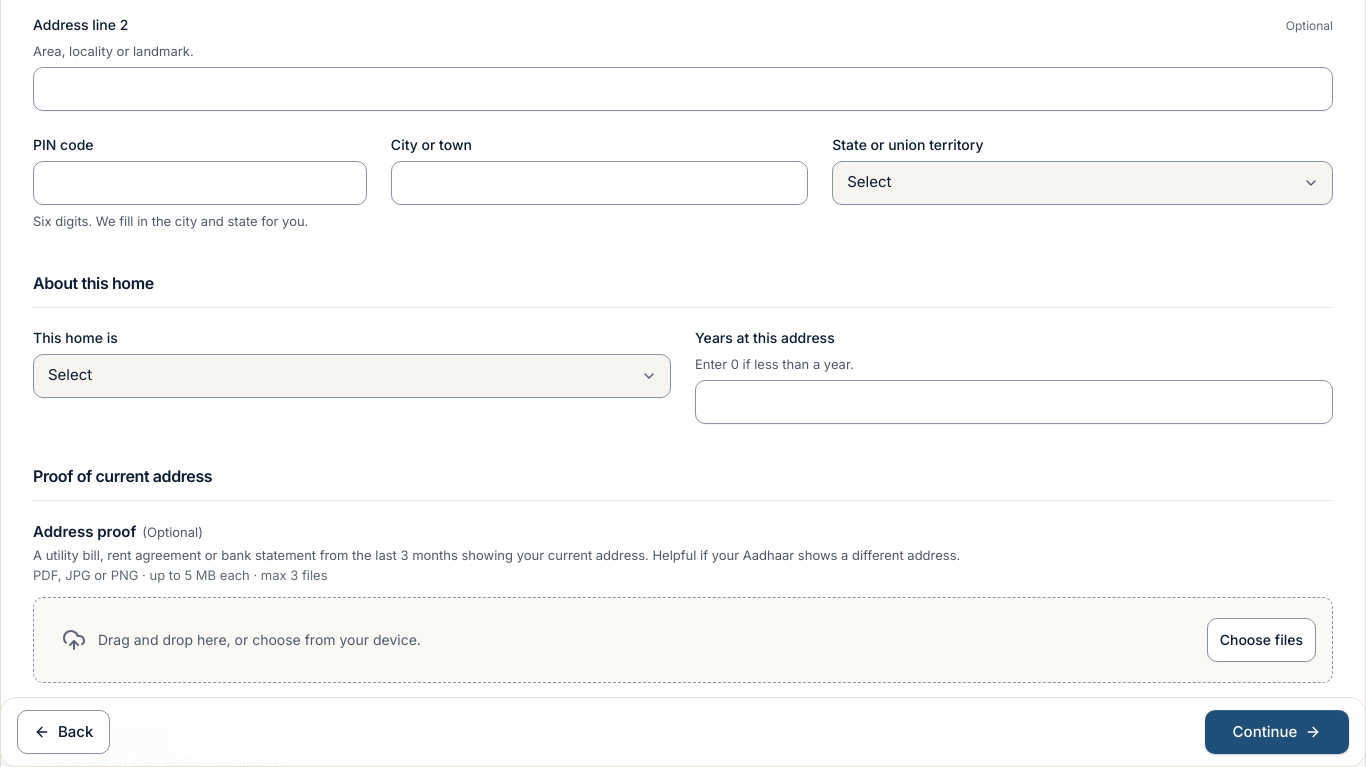
Test: Step 4 — address › asks for rent when renting and a previous address after under a year
This screenshot has width=1366, height=767.
(page scrolled)
Expected: the button "Continue" is enabled, x1=1205 y1=710 x2=1349 y2=754
Expected: the field labelled "Monthly rent" is not shown
Select "Rented" in the dropdown labelled "This home is" at (352, 376), box x1=33 y1=354 x2=671 y2=398
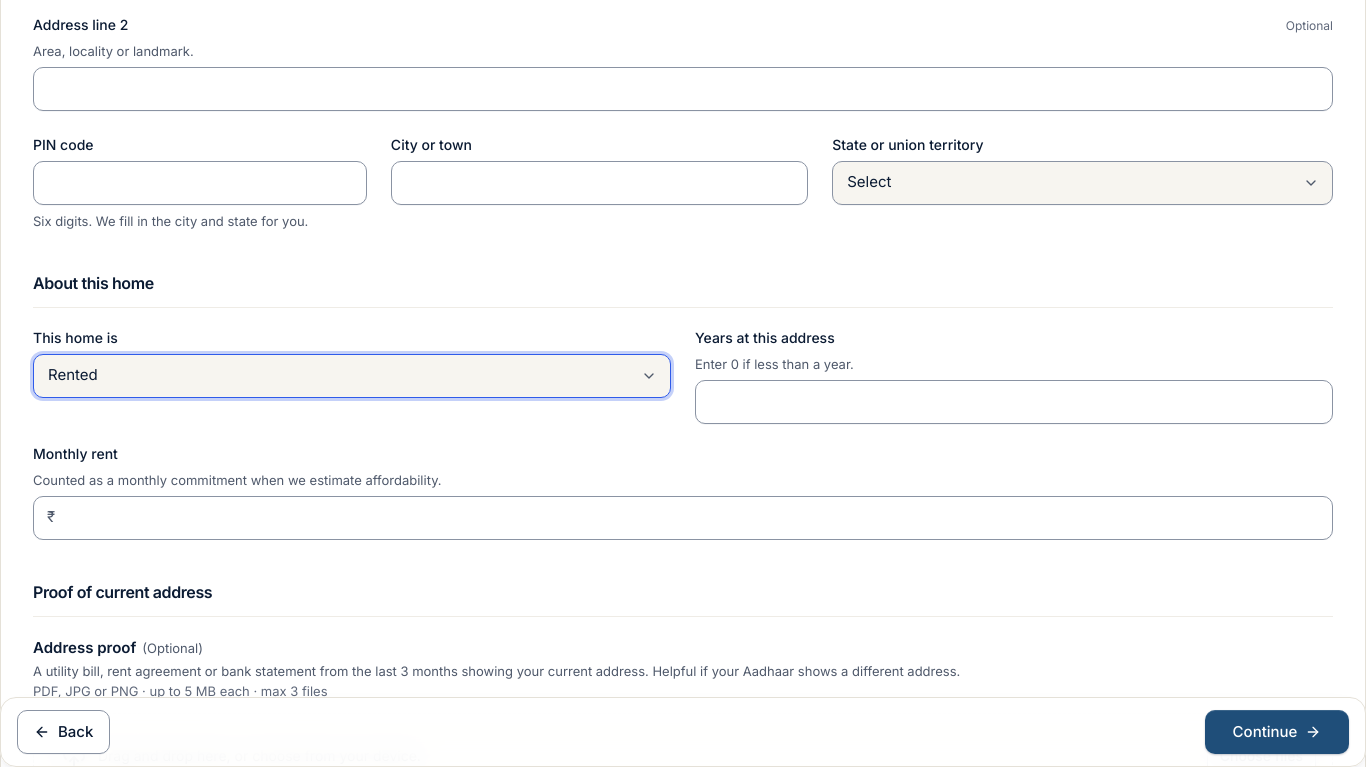
Expected: the field labelled "Monthly rent" is shown, x1=33 y1=496 x2=1333 y2=540
Type "0" into the field labelled "Years at this address" at (1014, 402), box x1=695 y1=380 x2=1333 y2=424
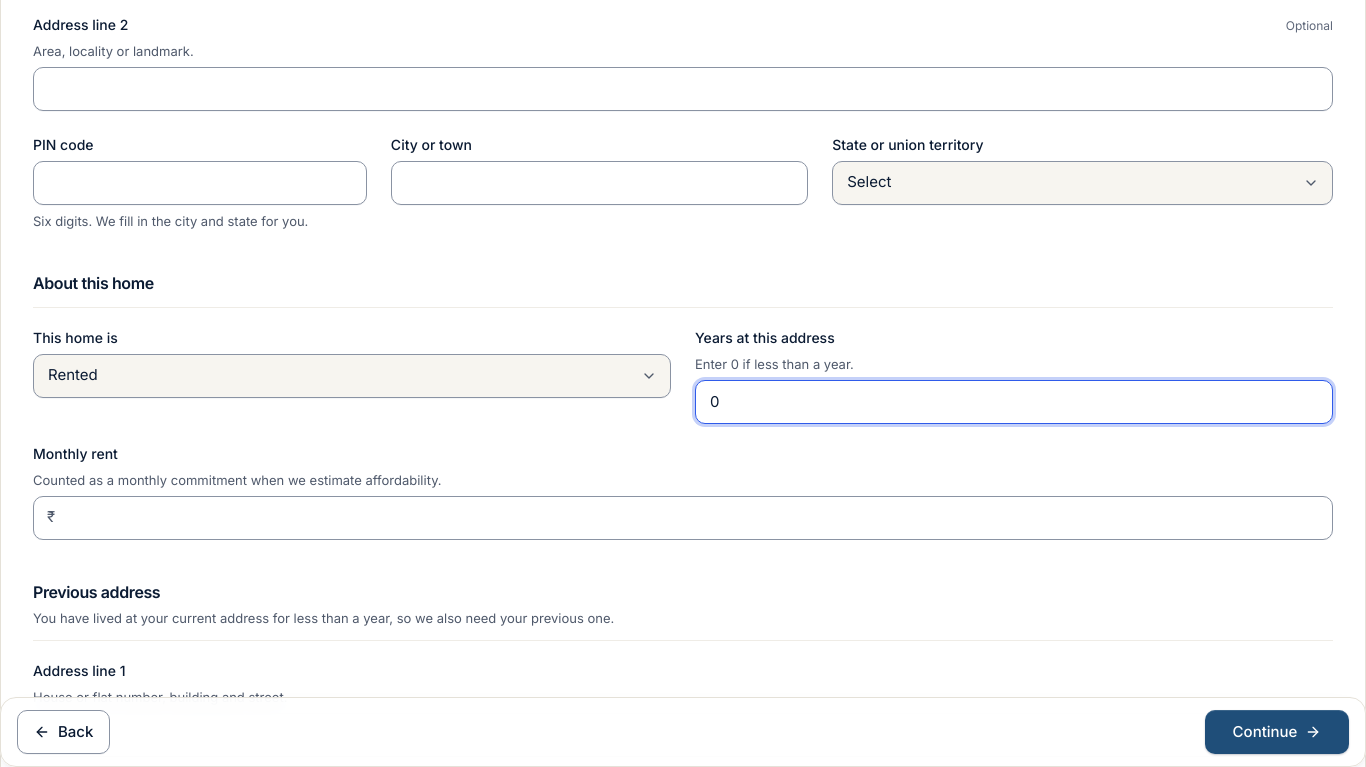
Expected: the heading "Previous address" is shown, x1=33 y1=582 x2=160 y2=602
Click the button "Continue" at (1277, 732), box x1=1205 y1=710 x2=1349 y2=754
(page scrolled)
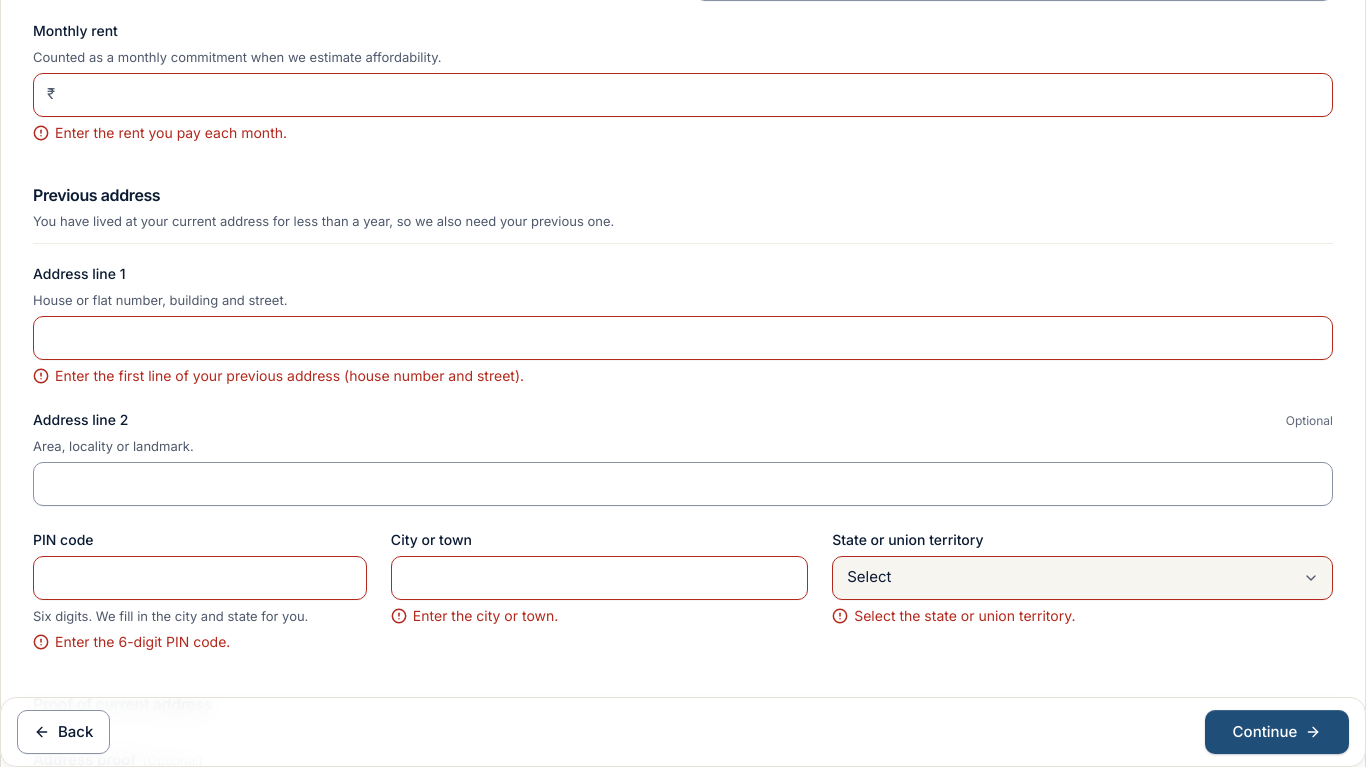
Expected: the text "Enter the rent you pay each month." is shown, x1=55 y1=122 x2=287 y2=142
Expected: the text "Enter the first line of your previous address" is shown, x1=55 y1=366 x2=524 y2=384
